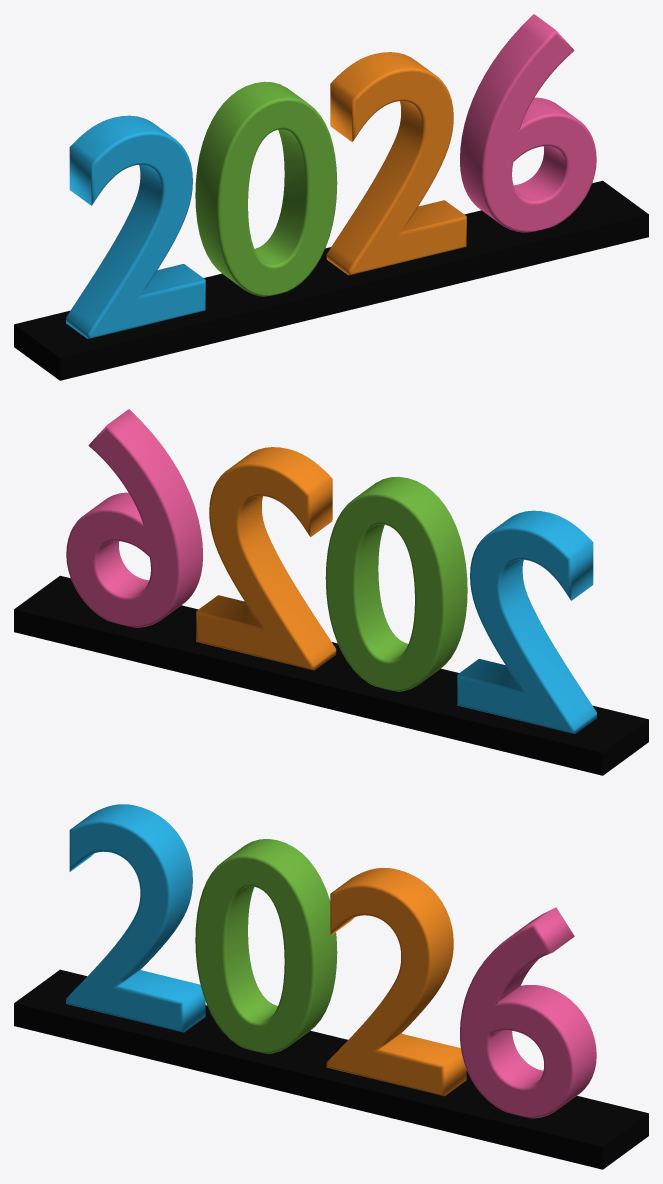
3 views of the same model, one above another, from view 1: azimuth 30°, elevation 25°; view 2: azimuth 150°, elevation 25°; view 3: azimuth 330°, elevation 25° (orthographic).
Parts seen in each view (by area): view 1: 2026; view 2: 2026; view 3: 2026.
Boxes of the visible parts, x1,y1,x2,y2 form: 2026: (14,14,648,380); 2026: (14,409,648,775); 2026: (14,804,648,1169).
Bounding box in the file's own units: 242 × 85.64 × 32.82.
